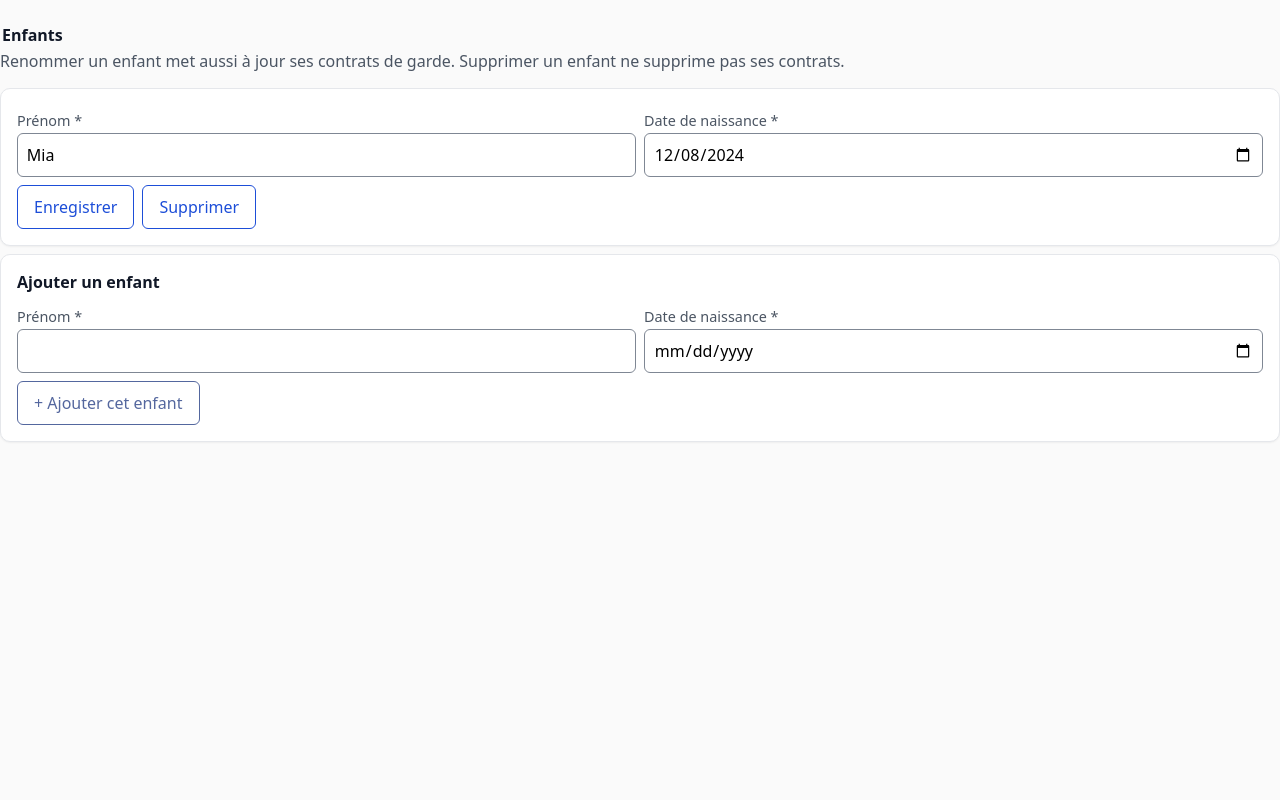
Test case: EnfantsSection › avertit du nombre de contrats liés dans la modale (variante contrats)
The width and height of the screenshot is (1280, 800).
Click the button with aria-label "Supprimer l’enfant Mia": (199, 207) [142,185,256,229]
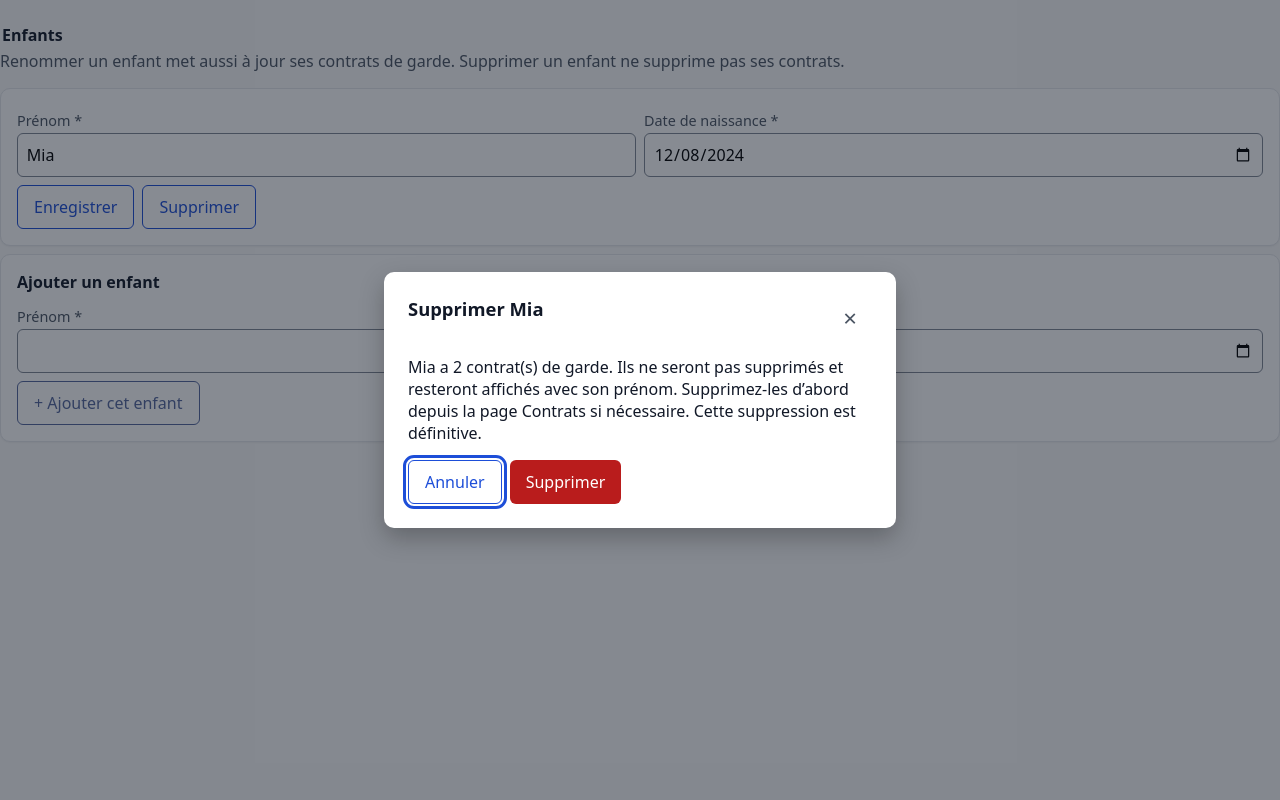
Expected: the text "Mia a 2 contrat(s) de garde" is shown, [408,356,856,444]
